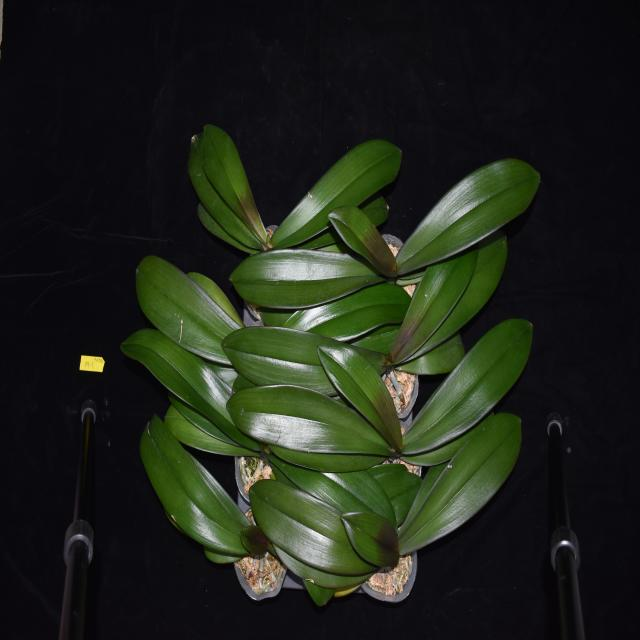leaf: (398, 404, 526, 570), (103, 325, 261, 449), (130, 413, 253, 569), (394, 154, 550, 276), (405, 320, 538, 450), (268, 128, 402, 246), (218, 382, 392, 463), (384, 230, 480, 375), (405, 233, 510, 361), (120, 253, 237, 365), (243, 477, 372, 577), (228, 234, 394, 310), (200, 104, 272, 254), (188, 134, 274, 250), (216, 321, 340, 398), (319, 340, 402, 450), (281, 276, 412, 340), (321, 191, 398, 276), (154, 414, 253, 458), (187, 260, 244, 332), (341, 511, 402, 573), (196, 198, 256, 255), (331, 468, 390, 514), (385, 474, 422, 520), (238, 526, 272, 558), (304, 572, 333, 605)
